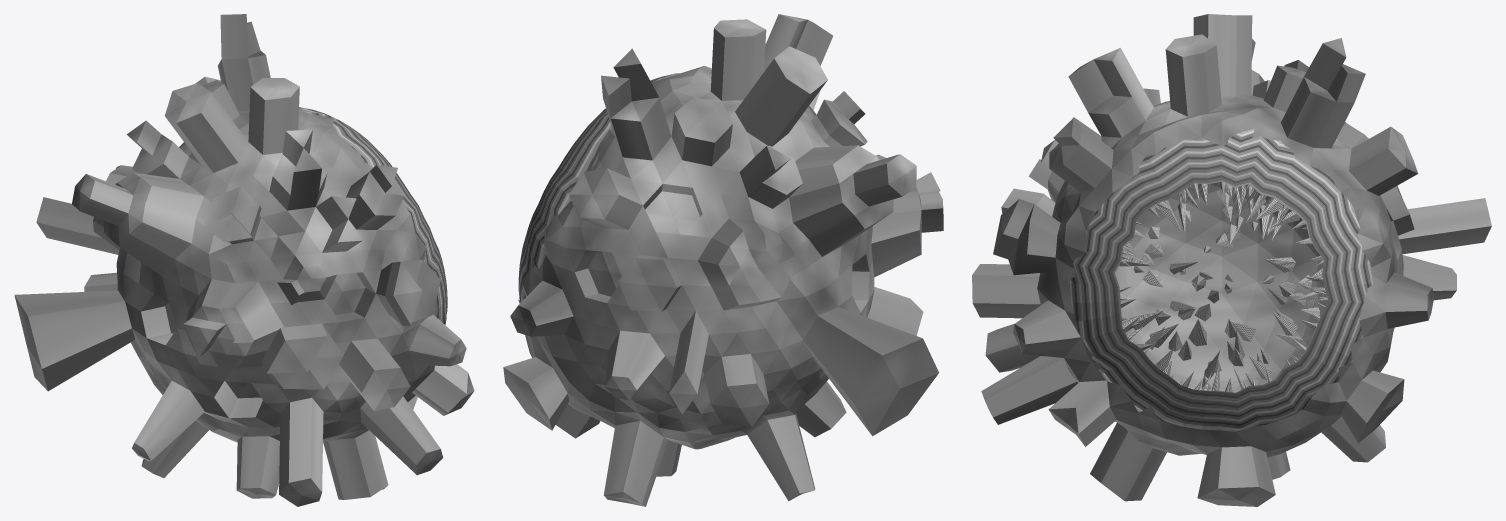
Rendered from geode-sample.glb.
3 views of the same model, side by side, from view 1: azimuth 30°, elevation 25°; view 2: azimuth 150°, elevation 25°; view 3: azimuth 270°, elevation 25° (orthographic). The views are drawn at different scales.
Visible parts, largest first — view 1: GeodeShell, GeodeBanding; view 2: GeodeShell, GeodeBanding; view 3: GeodeShell, GeodeBanding, GeodeCavity, GeodeDruzy.
Part boxes in pixels (<box>): GeodeShell: <box>14,14,474,506</box>; GeodeBanding: <box>299,107,447,324</box>; GeodeShell: <box>503,14,943,506</box>; GeodeBanding: <box>518,73,679,301</box>; GeodeShell: <box>972,14,1491,506</box>; GeodeBanding: <box>1070,129,1373,431</box>; GeodeCavity: <box>1115,182,1326,392</box>; GeodeDruzy: <box>1115,181,1327,392</box>.
Size of the model in its own units: 1.24 by 1.36 by 1.44.
Materials: 4 (4 with a texture image).
